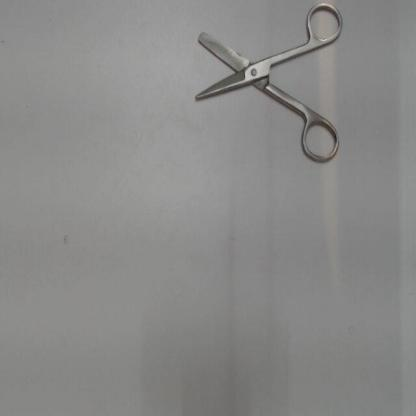Dressing Scissors: (184, 2, 348, 172)
